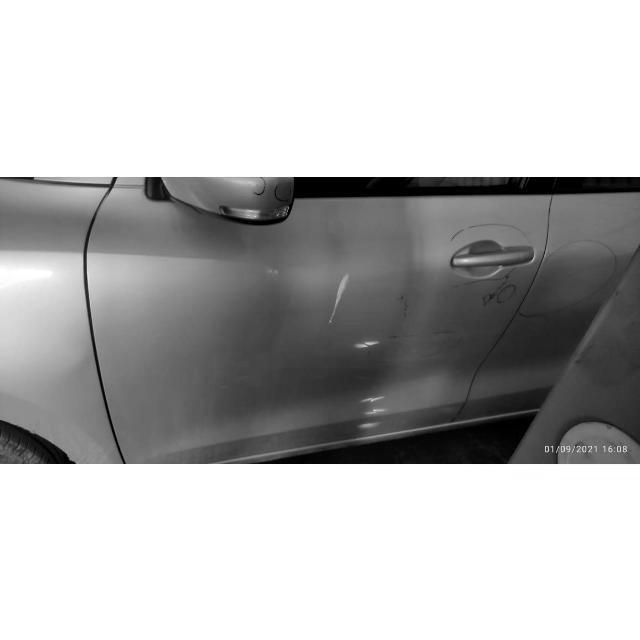doorouter-dent: (147, 199, 471, 440)
